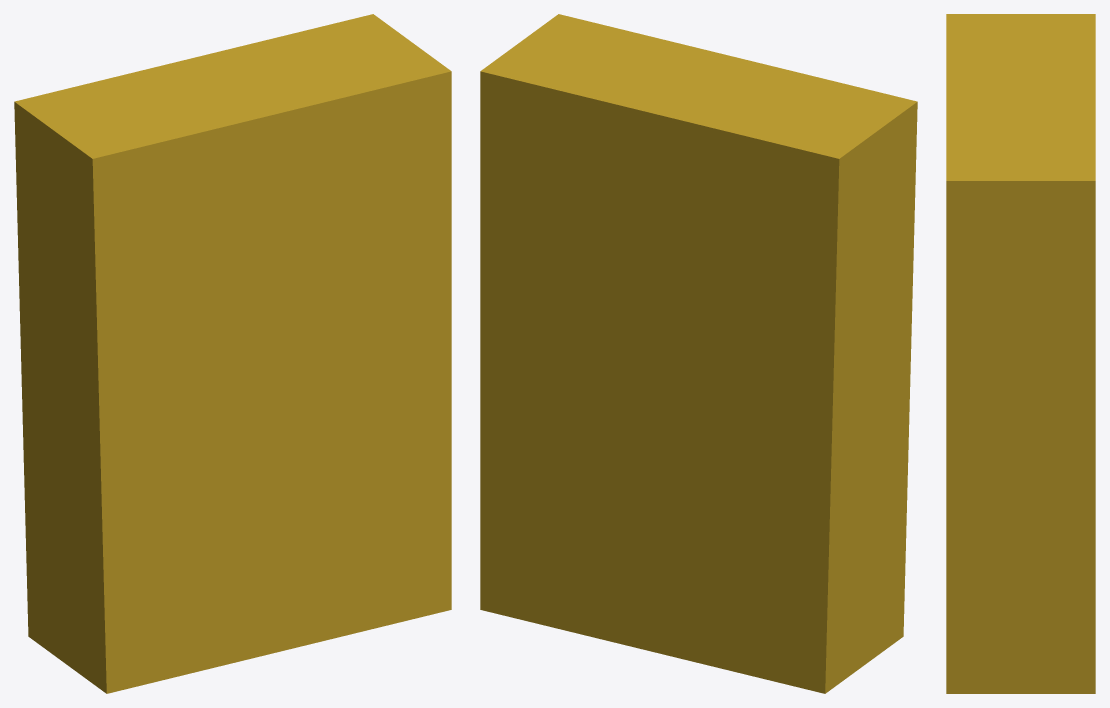
3 views of the same model, side by side, from view 1: azimuth 30°, elevation 25°; view 2: azimuth 150°, elevation 25°; view 3: azimuth 270°, elevation 25° (orthographic). The views are drawn at different scales.
Parts seen in each view (by area): view 1: geometry_0; view 2: geometry_0; view 3: geometry_0.
Boxes of the visible parts, box(x1,y1,x2,y2) form: geometry_0: box(14, 14, 451, 693); geometry_0: box(480, 14, 917, 693); geometry_0: box(946, 14, 1095, 693).
Size of the model in its own units: 7.94 by 11.38 by 3.
